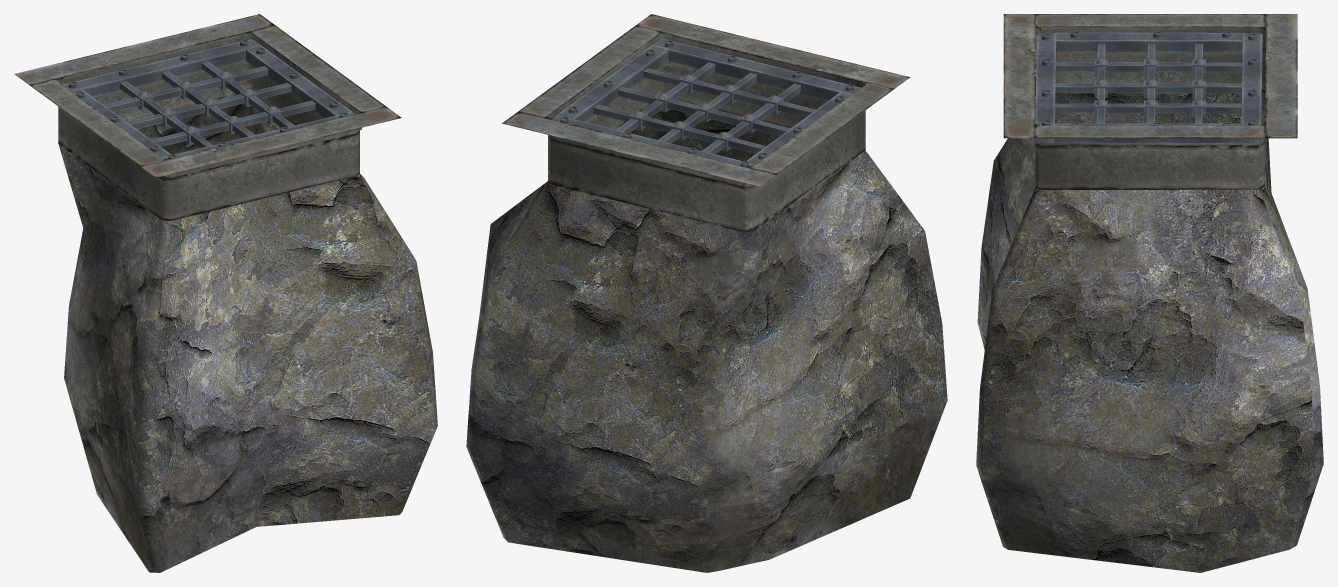
The model's file is FloorOpen.FBX.
The picture shows the model from 3 angles, left to right: view 1: azimuth 30°, elevation 25°; view 2: azimuth 150°, elevation 25°; view 3: azimuth 270°, elevation 25°; orthographic projection. The views are drawn at different scales.
Parts seen in each view (by area): view 1: Object153; view 2: Object153; view 3: Object153.
Part boxes in pixels (x1,y1,x2,y2): Object153: (14, 14, 437, 572); Object153: (466, 14, 947, 572); Object153: (976, 14, 1323, 572).
Size of the model in its own units: 699 by 770 by 591.
